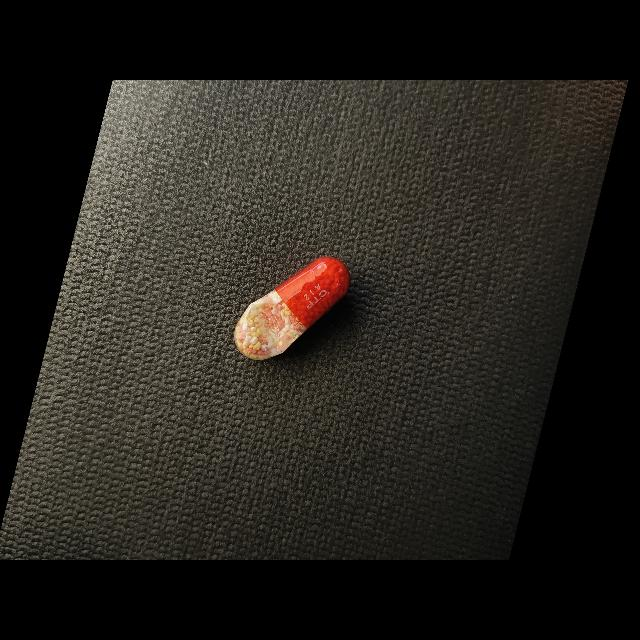Defective Capsule: (234, 257, 350, 360)
